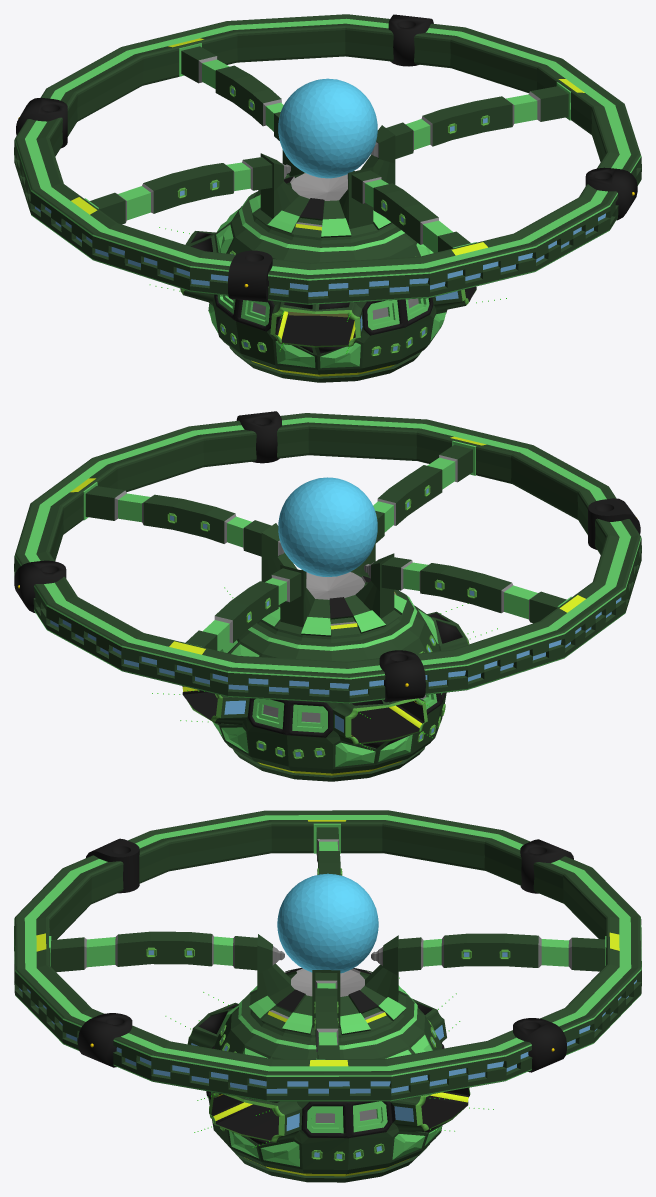
3 renders of one model, top to bottom at view 1: azimuth 30°, elevation 25°; view 2: azimuth 150°, elevation 25°; view 3: azimuth 270°, elevation 25°, orthographic.
Parts seen in each view (by area): view 1: ring, staion, blue sun, clamp, clamp 2, clamp 3, clamp 4; view 2: ring, staion, blue sun, clamp 4, clamp 3, clamp 2, clamp; view 3: ring, staion, blue sun, clamp 2, clamp 3, clamp, clamp 4.
Part boxes in pixels (x1,y1,x2,y2): ring: (14,14,641,304); staion: (180,191,476,382); blue sun: (278,78,377,178); clamp: (228,250,272,302); clamp 2: (585,167,637,220); clamp 3: (388,14,433,66); clamp 4: (16,97,67,148); ring: (14,413,641,703); staion: (182,591,469,781); blue sun: (278,477,377,576); clamp 4: (379,650,425,702); clamp 3: (14,560,66,613); clamp 2: (236,411,281,463); clamp: (588,498,640,549); ring: (14,810,641,1101); staion: (187,970,470,1182); blue sun: (277,873,378,973); clamp 2: (78,1013,132,1067); clamp 3: (513,1018,566,1072); clamp: (86,838,139,893); clamp 4: (520,839,573,893).
Bounding box in the file's own units: 10.3 × 5.19 × 10.3.
